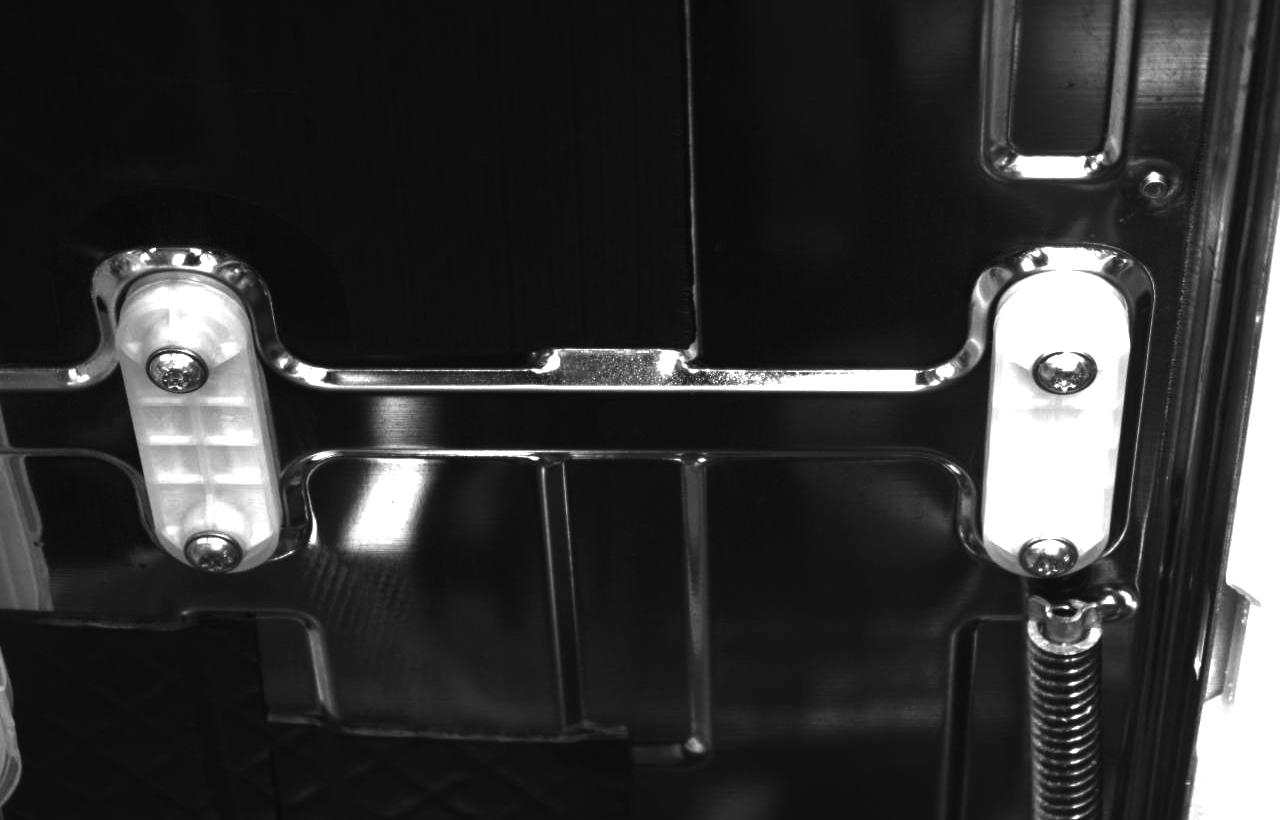vida-ok: (141, 337, 213, 404), (1029, 339, 1096, 407), (183, 524, 249, 582), (1016, 524, 1081, 582)
